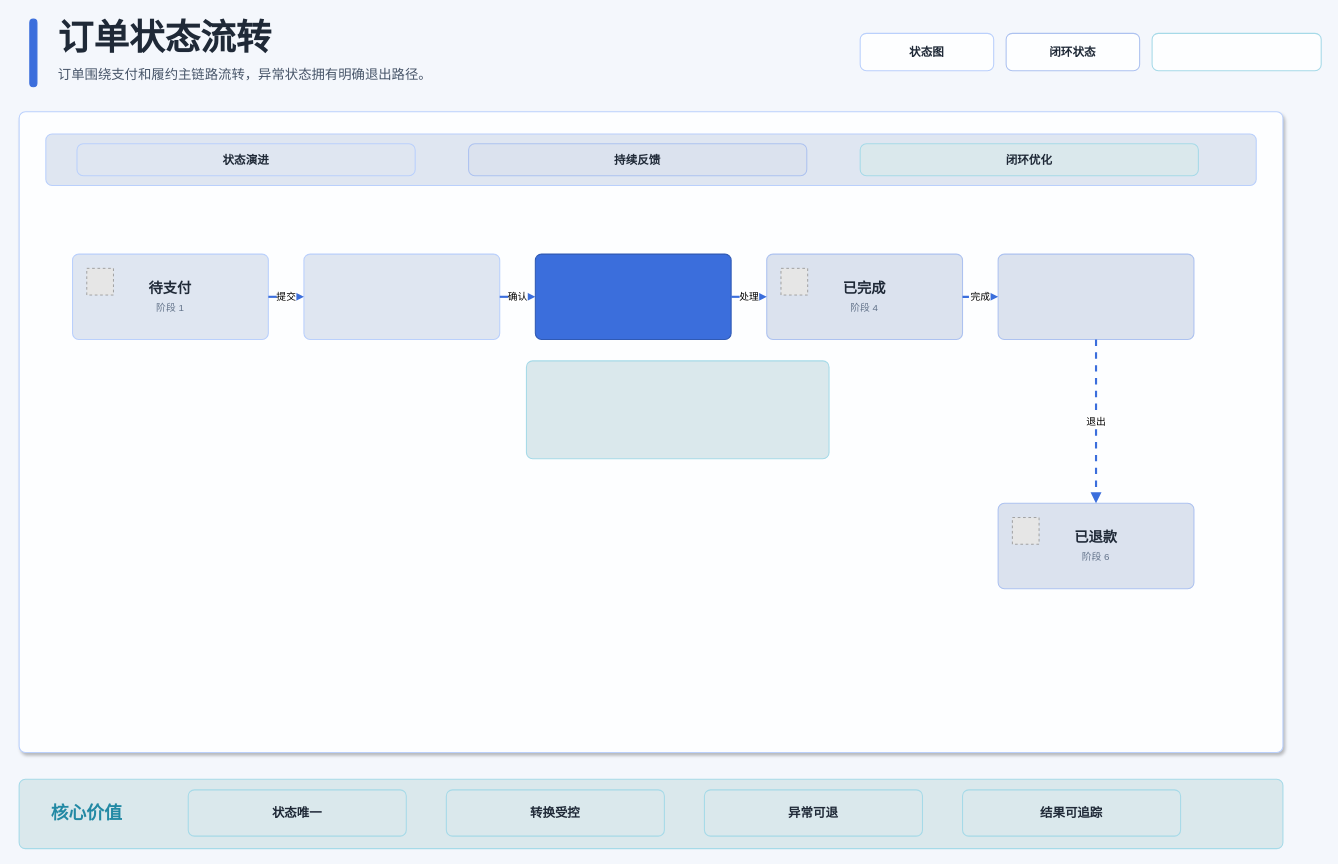
Image size: 1338x864. Some labels were removed from this diagram. Grey dashed boxes stand in for pictures. Each missing label, with the centre of its shape:
Tech Blue: [1236,51]
处理中 阶段 3: [632,296]
已关闭 阶段 5: [1095,296]
已支付 阶段 2: [401,296]
持续反馈闭环 订单围绕支付和履约主链路流转，异常状态拥有明确退出路径。: [677,409]
